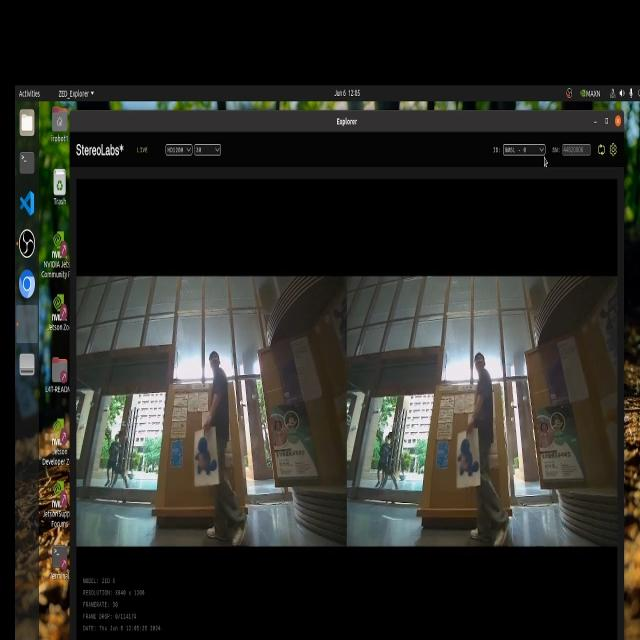blue: (192, 433, 223, 481), (460, 433, 479, 480)
